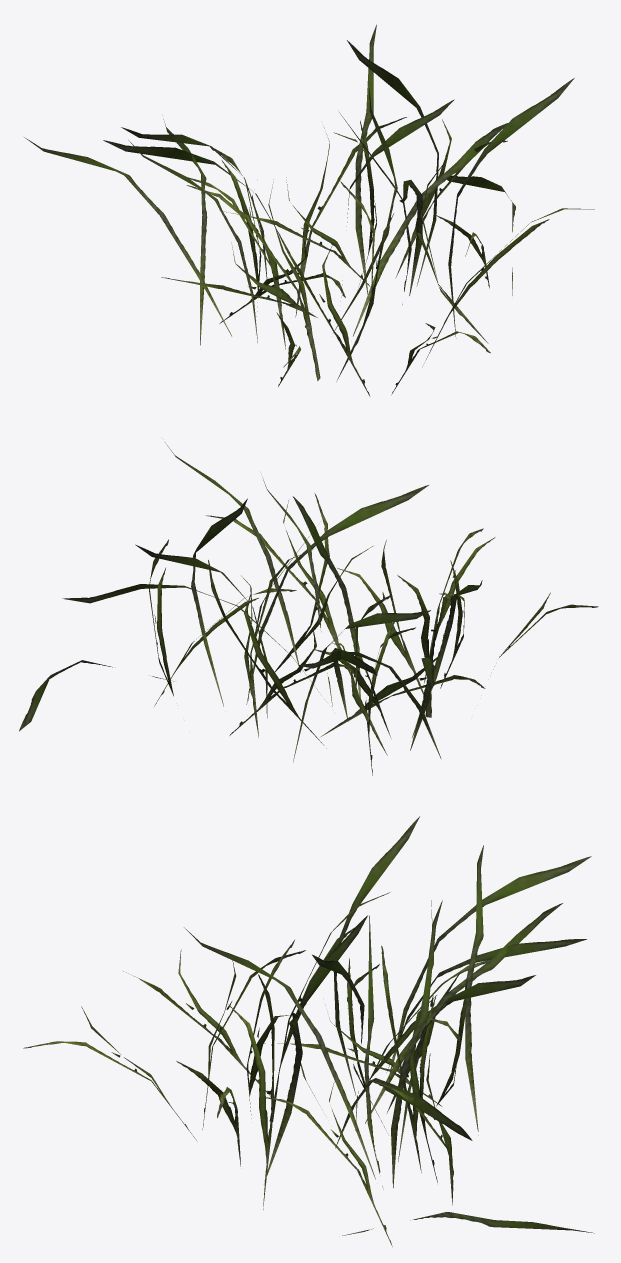
File: tallgrass.glb
3 views of the same model, one above another, from view 1: azimuth 30°, elevation 25°; view 2: azimuth 150°, elevation 25°; view 3: azimuth 270°, elevation 25° (orthographic). The views are drawn at different scales.
Parts seen in each view (by area): view 1: lod1; view 2: lod1; view 3: lod1.
Boxes of the visible parts, x1,y1,x2,y2 form: lod1: [24, 24, 594, 396]; lod1: [19, 442, 598, 775]; lod1: [23, 816, 594, 1246].
Bounding box in the file's own units: 0.9336 × 0.543 × 0.9906.
1 material, 1 textured.
